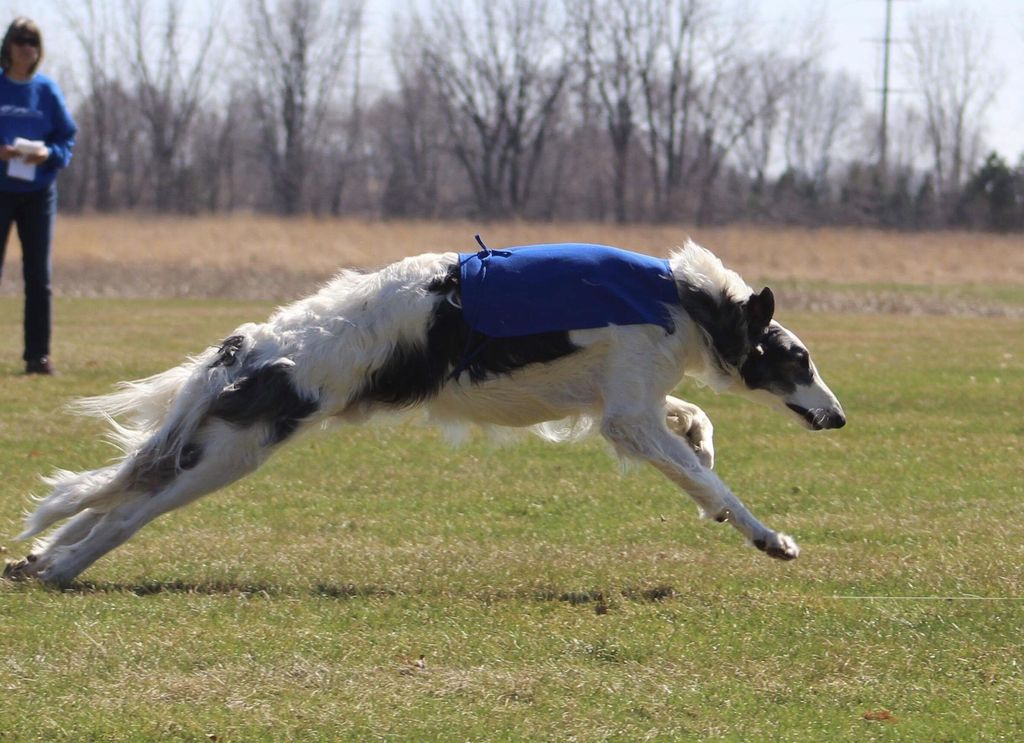borzoi: (1, 232, 903, 614)
